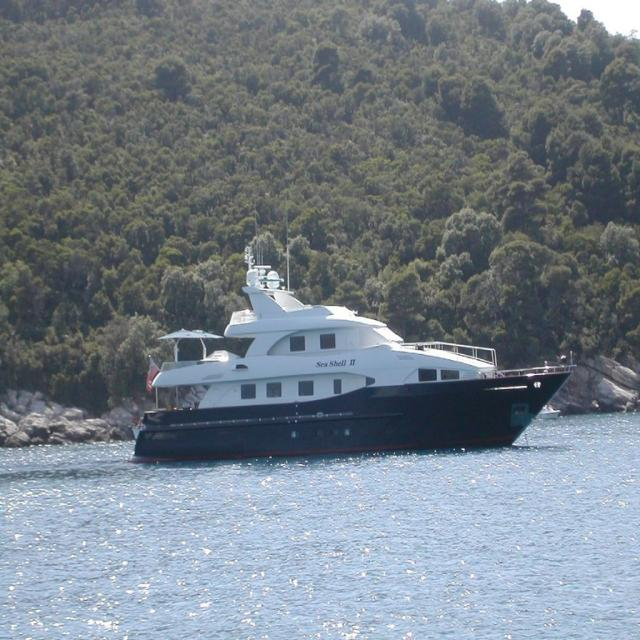Boat: (132, 190, 578, 466), (538, 403, 562, 424)
